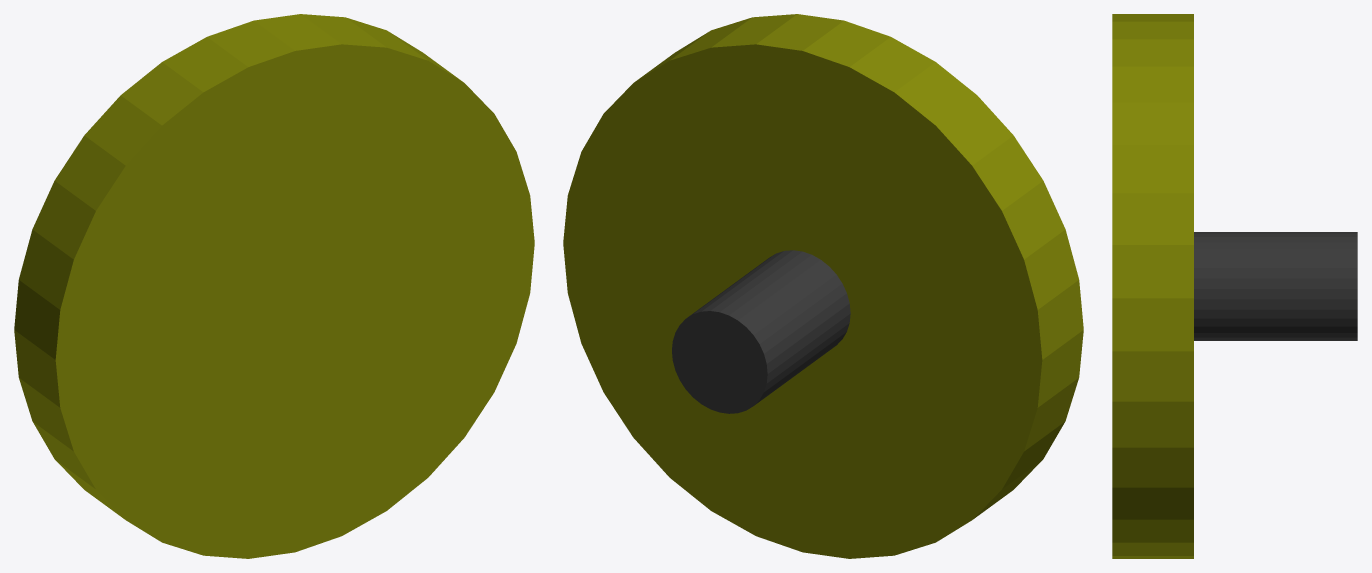
Rendered from toolPolish.obj.
3 views of the same model, side by side, from view 1: azimuth 30°, elevation 25°; view 2: azimuth 150°, elevation 25°; view 3: azimuth 270°, elevation 25° (orthographic).
Parts seen in each view (by area): view 1: Cylinder.001; view 2: Cylinder.001, Cylinder; view 3: Cylinder.001, Cylinder.
Part boxes in pixels (x1=…): Cylinder.001: x1=14, y1=14, x2=534, y2=558; Cylinder.001: x1=563, y1=14, x2=1083, y2=558; Cylinder: x1=672, y1=250, x2=850, y2=413; Cylinder.001: x1=1112, y1=14, x2=1193, y2=558; Cylinder: x1=1194, y1=232, x2=1357, y2=340.
Bounding box in the file's own units: 0.1 × 0.1 × 0.045.
